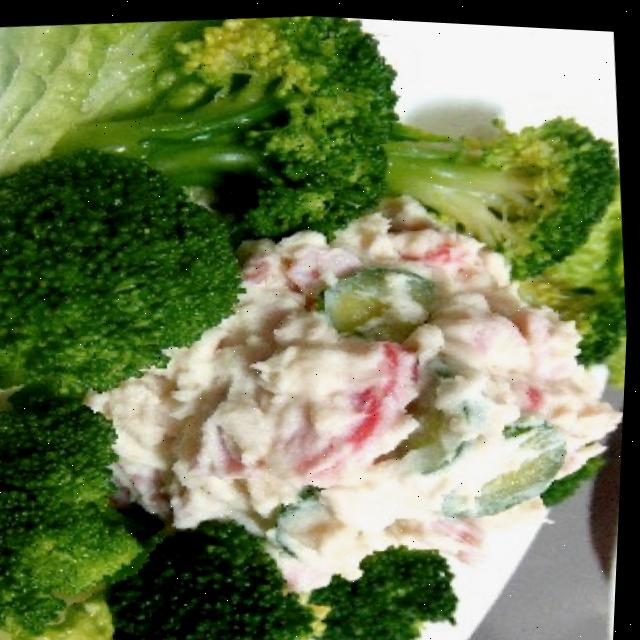蔬菜料理: (72, 159, 635, 599)
